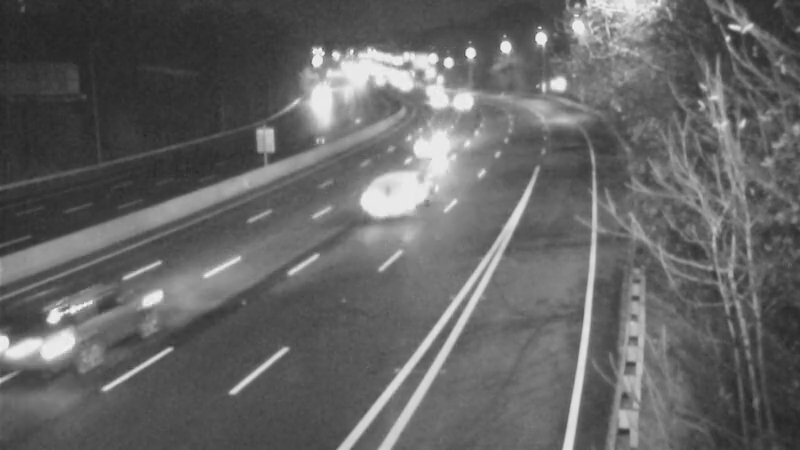vehicle: (1, 284, 97, 394), (349, 158, 429, 238), (415, 74, 465, 124), (438, 77, 488, 127), (400, 117, 450, 167), (292, 77, 342, 127)
